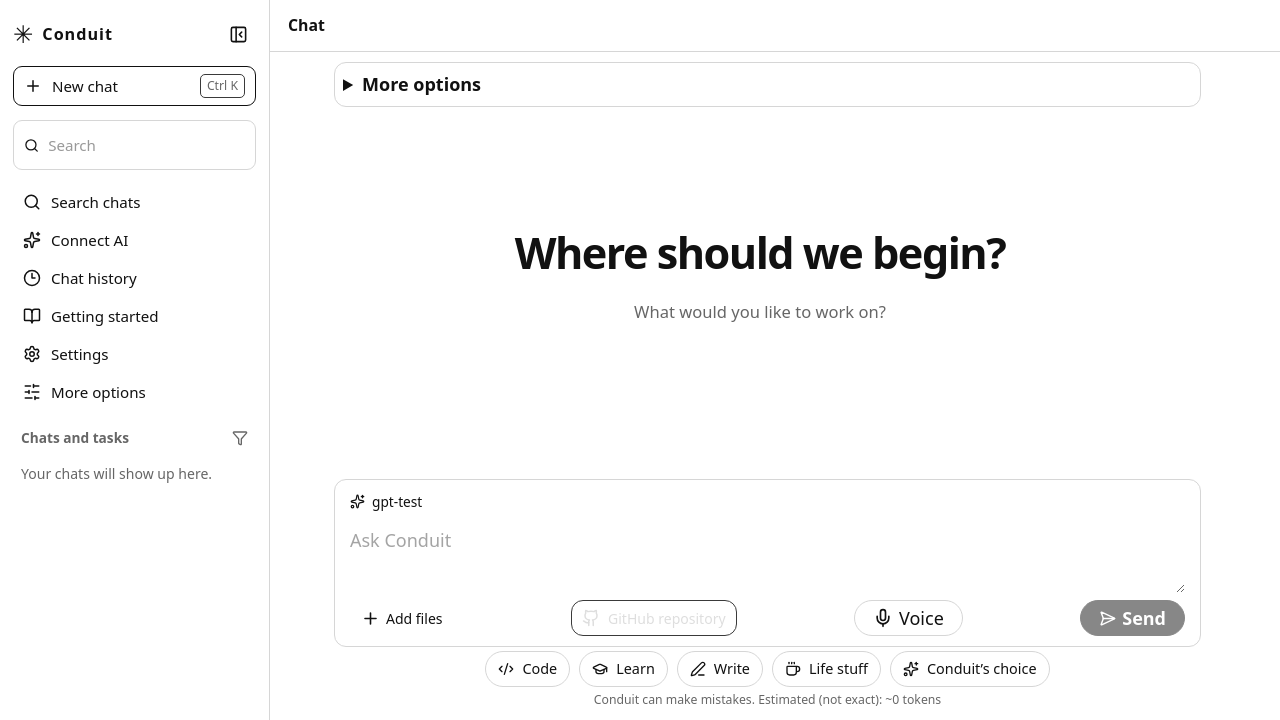
Test: chat page › sends a message and stores the streamed model and usage
Type "Hello provider" into the text box named "Message" at [768, 555], box [350,517,1185,593]
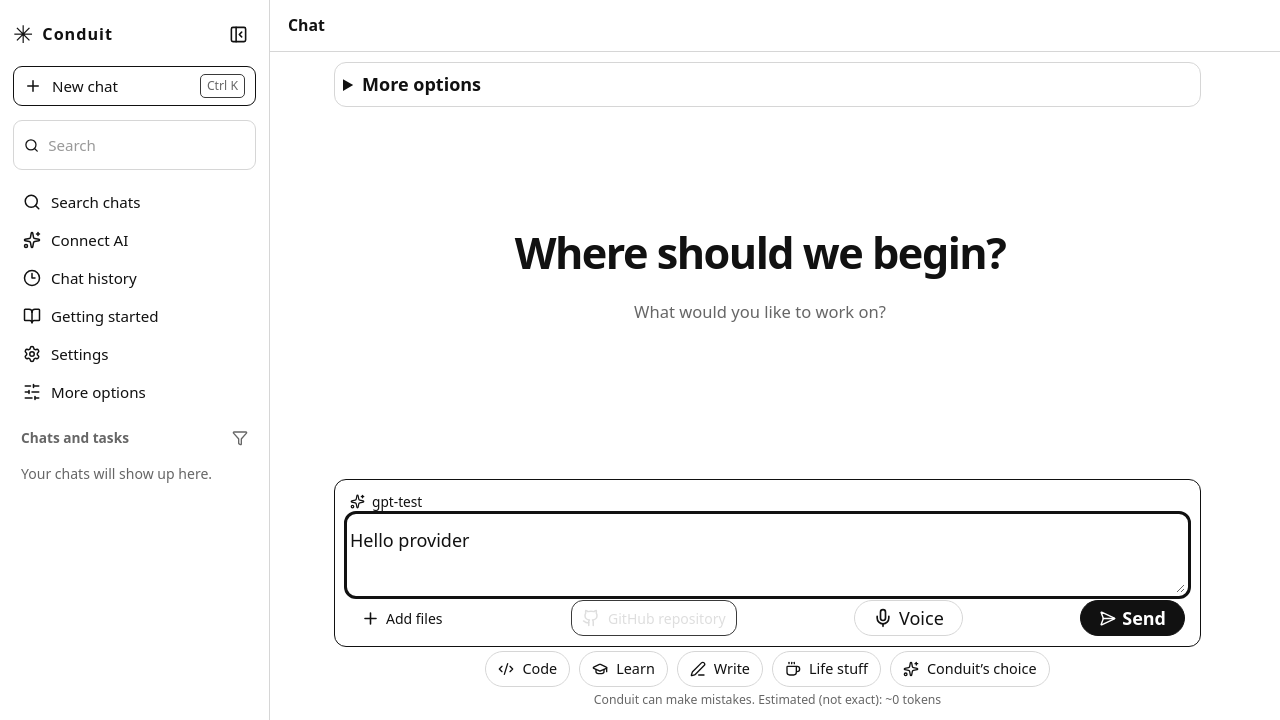
Click the button "Send" at [1133, 618], box [1080,600,1185,636]
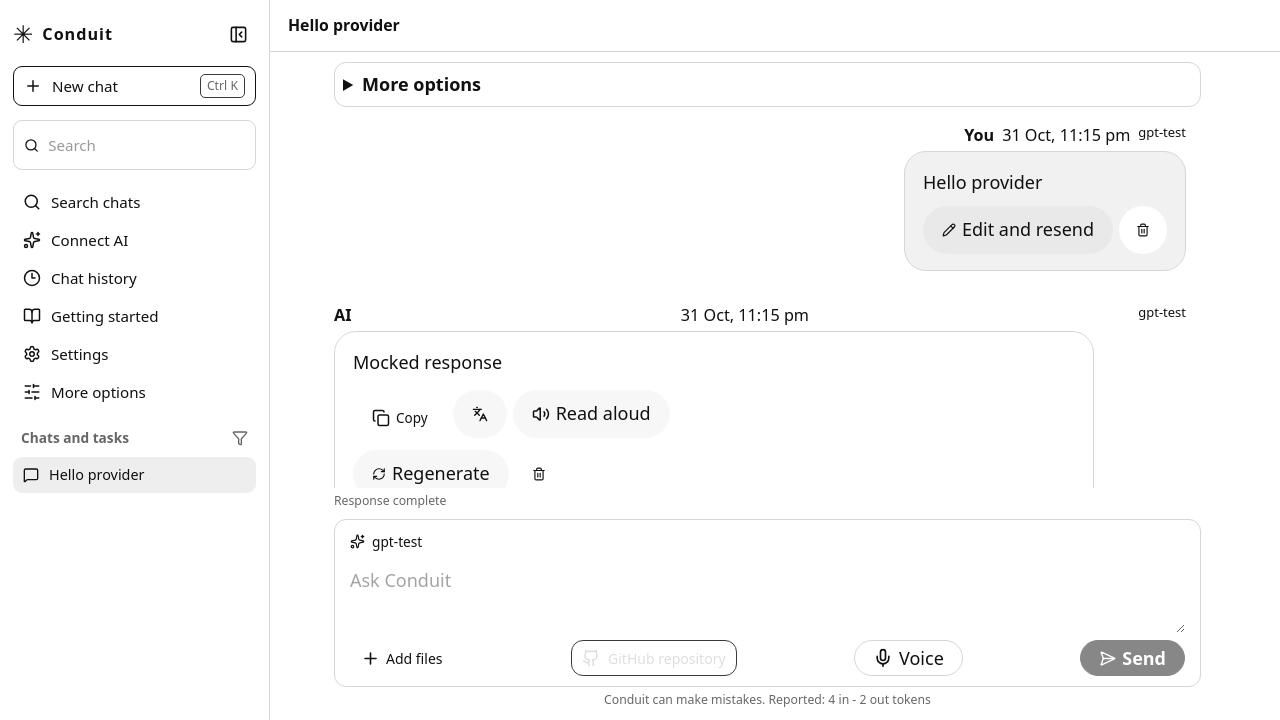
expect the text "Mocked response" is shown: met, box [353,350,502,374]
expect the text "Response complete" is shown: met, box [334,492,446,509]
